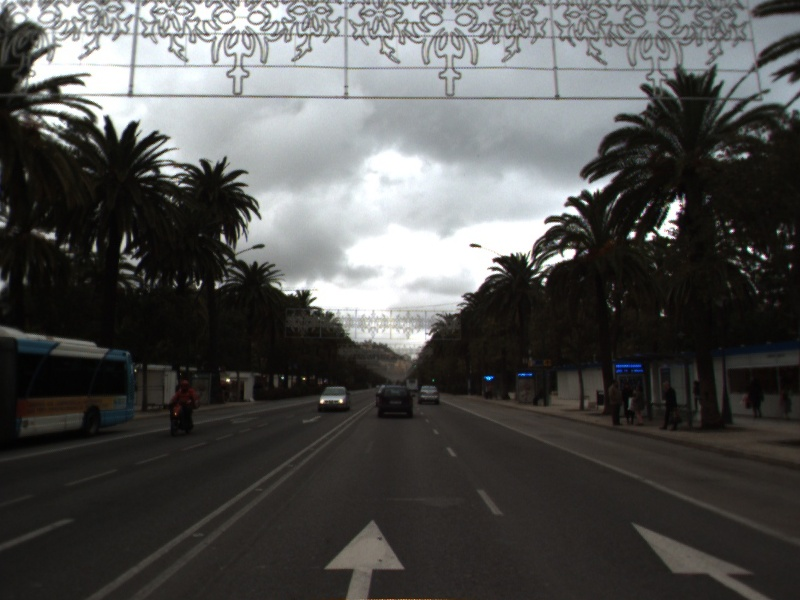STRAIGHT: (628, 518, 775, 600), (320, 516, 409, 600)
